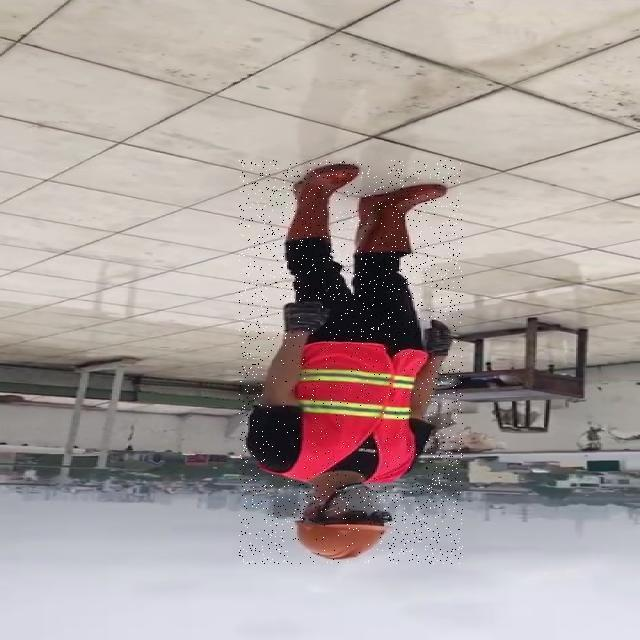Boots: (274, 161, 362, 253), (357, 184, 457, 256)
Gloves: (279, 296, 333, 334), (417, 317, 455, 358)
Helmet: (288, 519, 388, 562)
Vest: (264, 341, 428, 484)
